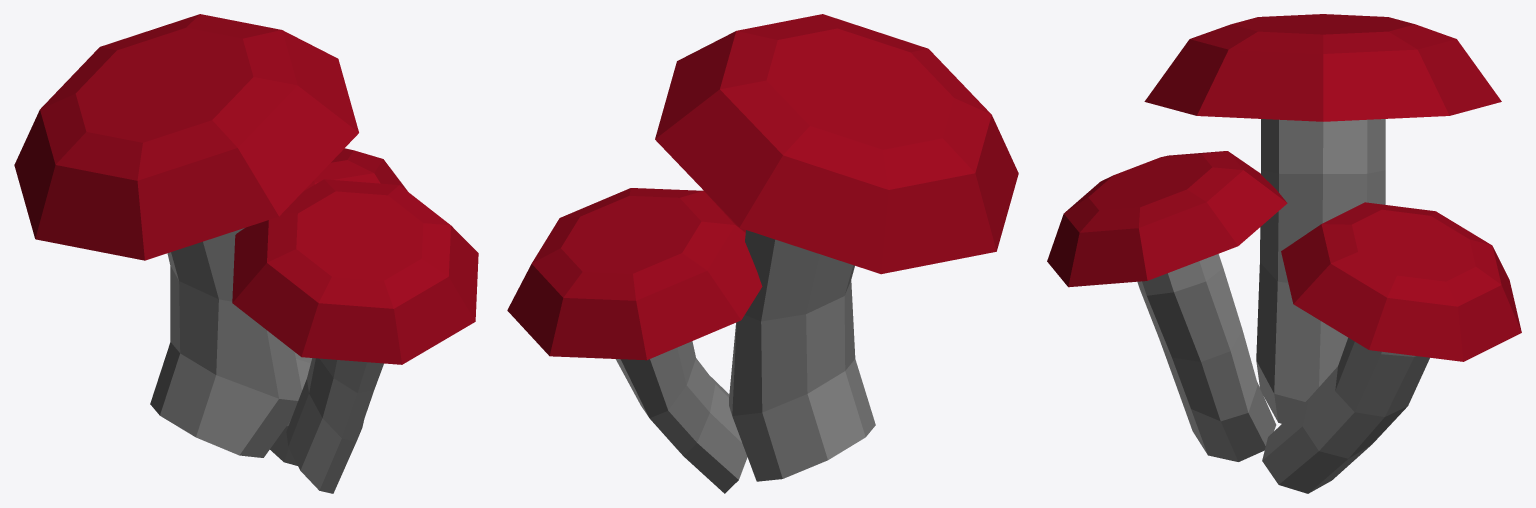
The model's file is shroomsGround.fbx.
3 renders of one model, left to right at view 1: azimuth 30°, elevation 25°; view 2: azimuth 150°, elevation 25°; view 3: azimuth 270°, elevation 25°, orthographic. The views are drawn at different scales.
Visible parts, largest first — view 1: groundShrooms; view 2: groundShrooms; view 3: groundShrooms.
Boxes of the visible parts, x1,y1,x2,y2 form: groundShrooms: (14, 14, 478, 493); groundShrooms: (507, 14, 1018, 493); groundShrooms: (1047, 14, 1521, 493).
Size of the model in its own units: 49.87 by 52.08 by 52.3.
